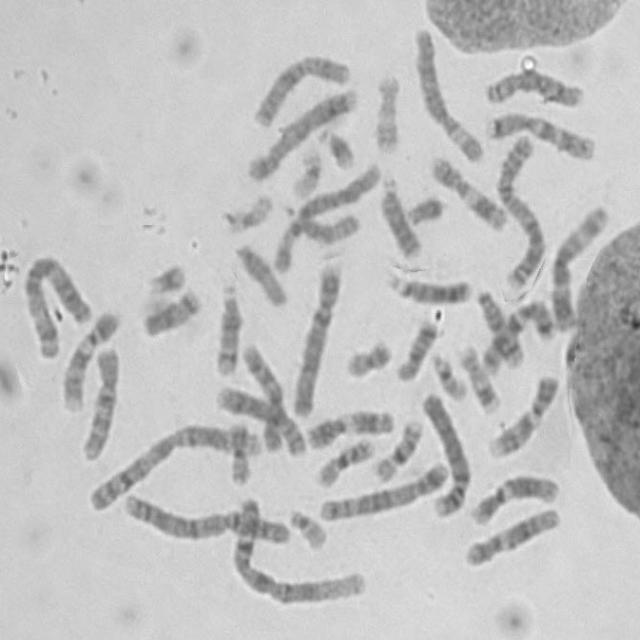A1: (80, 414, 263, 514), (222, 490, 370, 606)
A2: (117, 484, 295, 547), (491, 125, 548, 290)
A3: (543, 195, 611, 332), (15, 247, 94, 361)
B4: (286, 255, 344, 419), (414, 384, 472, 519)
B5: (240, 78, 360, 183), (312, 453, 451, 522)
C10: (236, 336, 290, 454), (74, 338, 122, 462)
C11: (424, 148, 511, 233), (298, 401, 396, 451)
C12: (457, 498, 563, 569), (463, 465, 563, 527)
C6: (266, 154, 384, 276), (407, 18, 486, 164)
C7: (479, 102, 598, 163), (476, 290, 558, 376)
C8: (209, 379, 309, 458), (478, 60, 586, 110)
C9: (55, 302, 123, 413), (481, 367, 561, 460)
D13: (374, 167, 424, 260), (381, 266, 474, 306)
D14: (474, 286, 534, 374), (208, 276, 242, 378)
D15: (229, 235, 290, 308), (282, 198, 362, 244)
E16: (368, 411, 426, 484), (309, 429, 377, 490)
E17: (453, 337, 502, 415), (367, 65, 403, 155)
E18: (135, 280, 204, 339), (390, 311, 439, 382)
F19: (217, 185, 274, 235), (286, 139, 324, 200)
F20: (338, 330, 394, 380), (222, 414, 254, 485)
G21: (311, 119, 358, 171), (139, 255, 188, 296)
G22: (425, 344, 470, 402), (282, 501, 330, 552)
X: (246, 45, 354, 130)
Y: (399, 188, 445, 226)
